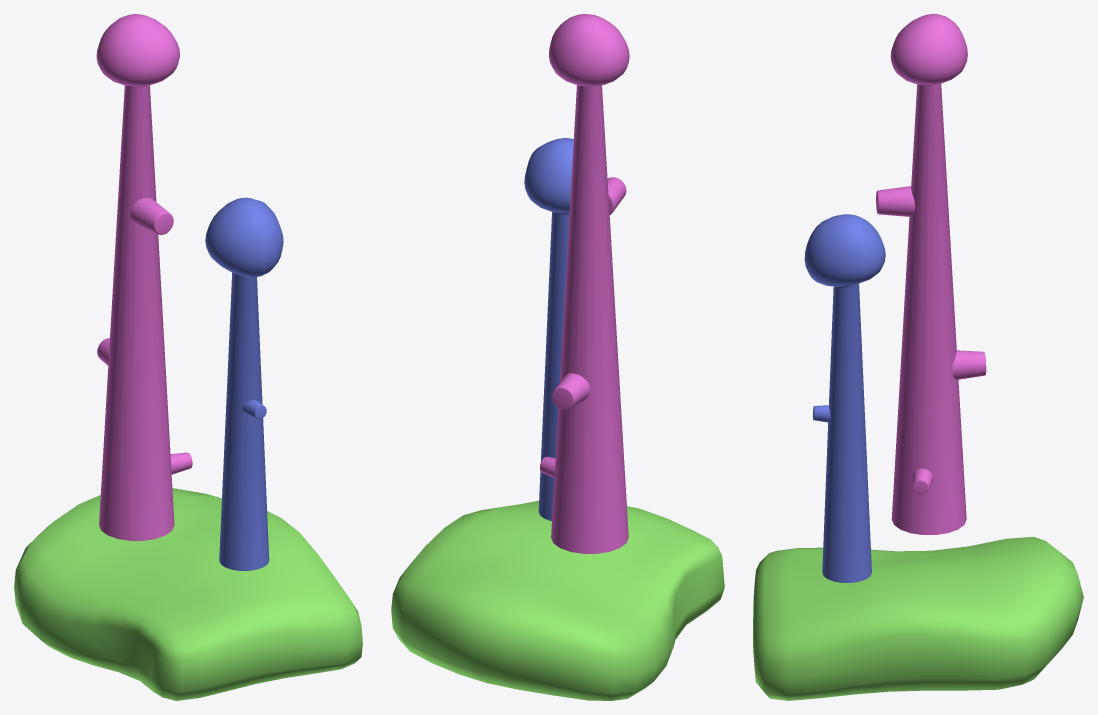
File: Plantas_Raras.fbx
The picture shows the model from 3 angles, left to right: view 1: azimuth 30°, elevation 25°; view 2: azimuth 150°, elevation 25°; view 3: azimuth 270°, elevation 25°; orthographic projection. The views are drawn at different scales.
Parts seen in each view (by area): view 1: Cube, Sphere.001, Cylinder.001; view 2: Cube, Sphere.001, Cylinder.001; view 3: Cube, Sphere.001, Cylinder.001.
Part boxes in pixels (box(x1,y1,x2,y2)): Cube: box(14, 488, 362, 700); Sphere.001: box(96, 14, 192, 540); Cylinder.001: box(205, 197, 283, 570); Cube: box(391, 501, 724, 700); Sphere.001: box(540, 14, 629, 553); Cylinder.001: box(524, 138, 573, 521); Cube: box(753, 537, 1083, 700); Sphere.001: box(876, 14, 986, 534); Cylinder.001: box(804, 214, 885, 582).
Bounding box in the file's own units: 199 × 507 × 245.
